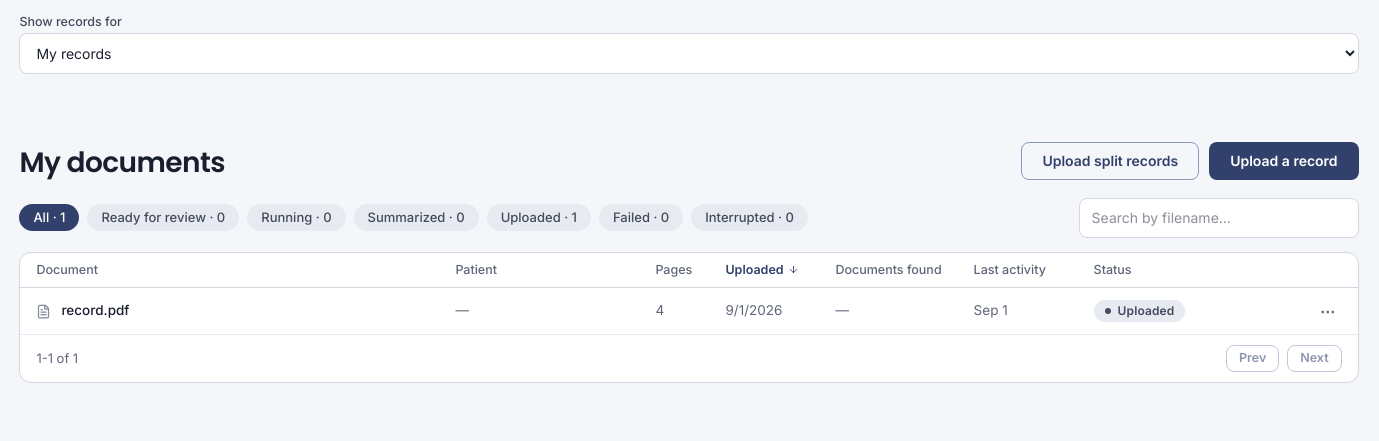
Test: DocumentsView for an admin › shows one reviewer's records once the admin picks them
Select "Brian" in the dropdown labelled "Show records for": {"x": 689, "y": 53} x1=19 y1=32 x2=1359 y2=74
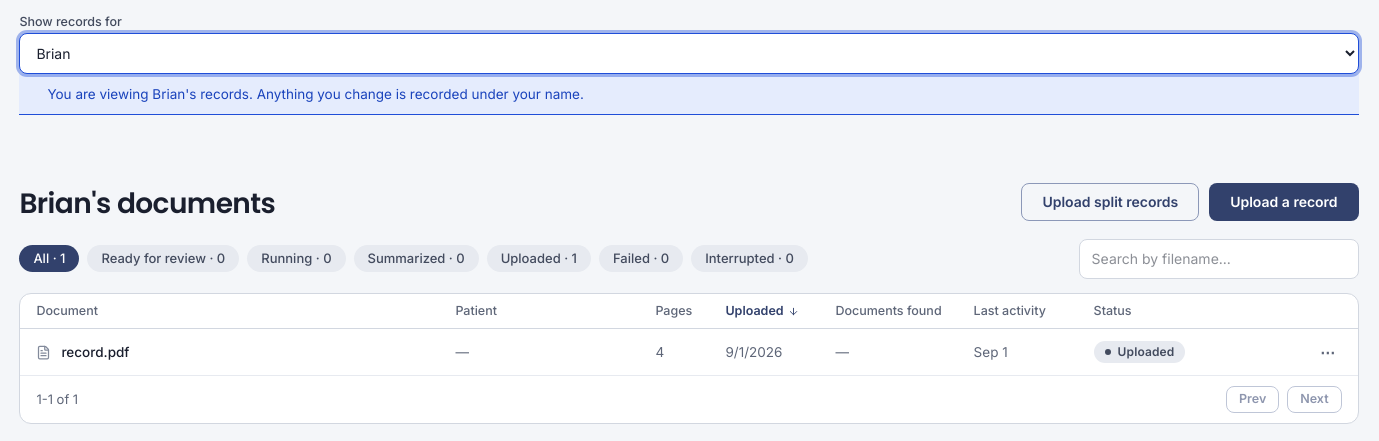
Expected: the heading "Brian's documents" is shown, x1=19 y1=187 x2=275 y2=221
Expected: the text "recorded under your name" is shown, x1=185 y1=86 x2=584 y2=102
